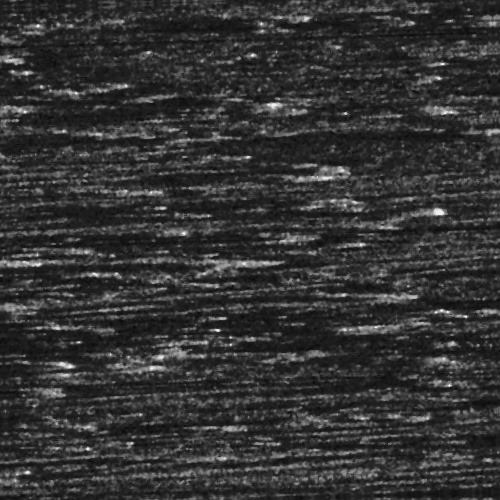object: (111, 126, 256, 141), (0, 234, 142, 249), (268, 161, 393, 178), (198, 231, 333, 242), (78, 357, 203, 366), (164, 256, 269, 265), (88, 181, 171, 188), (321, 293, 404, 300), (0, 377, 79, 384), (0, 247, 57, 256), (396, 382, 449, 391), (451, 338, 500, 347), (380, 209, 443, 216), (141, 224, 204, 231), (461, 131, 500, 142), (475, 345, 500, 358), (17, 363, 80, 368), (331, 321, 372, 328), (276, 173, 329, 178), (22, 353, 75, 358), (233, 109, 286, 114), (54, 79, 85, 84)
shadow: (89, 161, 330, 178), (47, 338, 500, 347), (0, 126, 184, 141), (305, 439, 500, 452), (0, 256, 216, 265), (106, 231, 265, 242), (340, 131, 492, 142), (454, 19, 500, 48), (0, 224, 173, 231), (256, 209, 411, 216), (288, 492, 500, 497), (419, 345, 500, 358), (396, 37, 500, 46), (0, 181, 129, 188), (57, 357, 140, 366), (0, 234, 49, 249), (344, 382, 423, 391), (272, 321, 351, 328), (285, 293, 362, 300), (291, 0, 500, 2), (222, 173, 303, 178), (181, 109, 259, 114), (0, 79, 69, 84), (475, 89, 500, 102), (0, 363, 49, 368), (0, 353, 49, 358), (0, 377, 32, 384)
